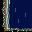Interaction: (0, 0, 12, 32), (12, 23, 32, 32)
Slow: (9, 0, 32, 28)
